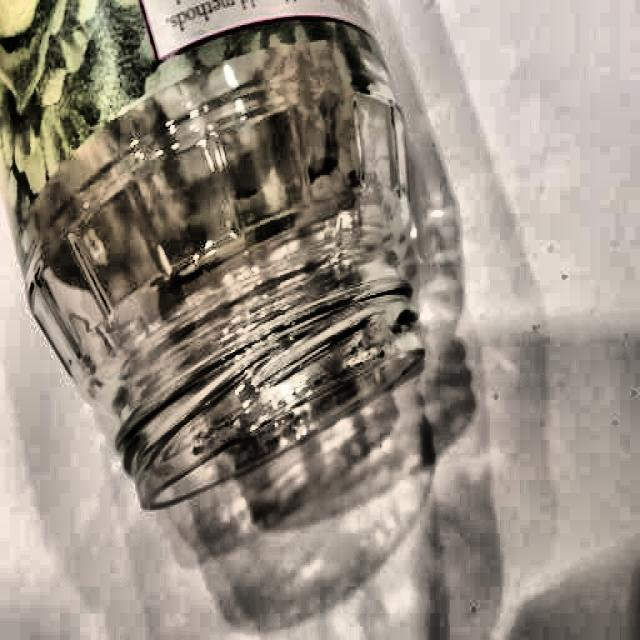glass: (0, 0, 428, 527)
